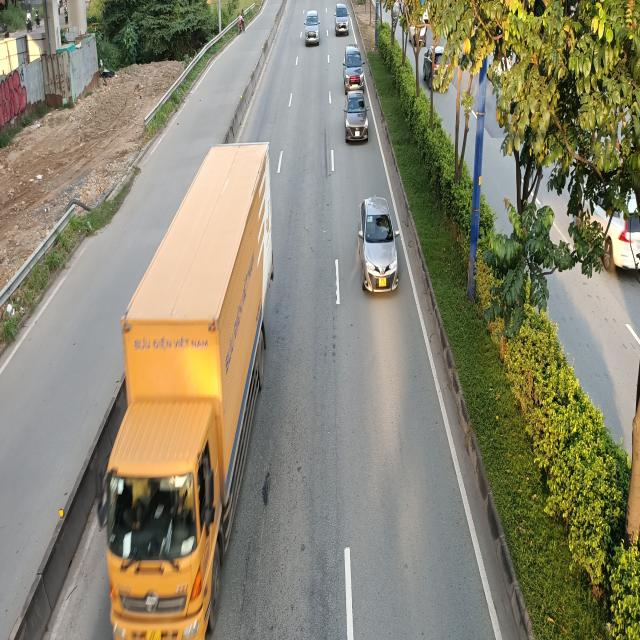car: (358, 194, 398, 292), (344, 87, 369, 144), (343, 46, 365, 87), (304, 10, 320, 46), (335, 4, 350, 36)
truck: (90, 147, 268, 640)
